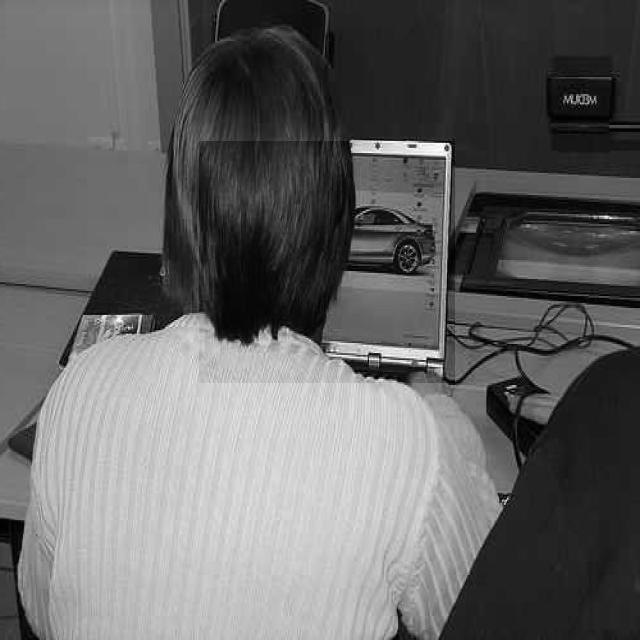-keyboard-: (200, 142, 456, 384)
